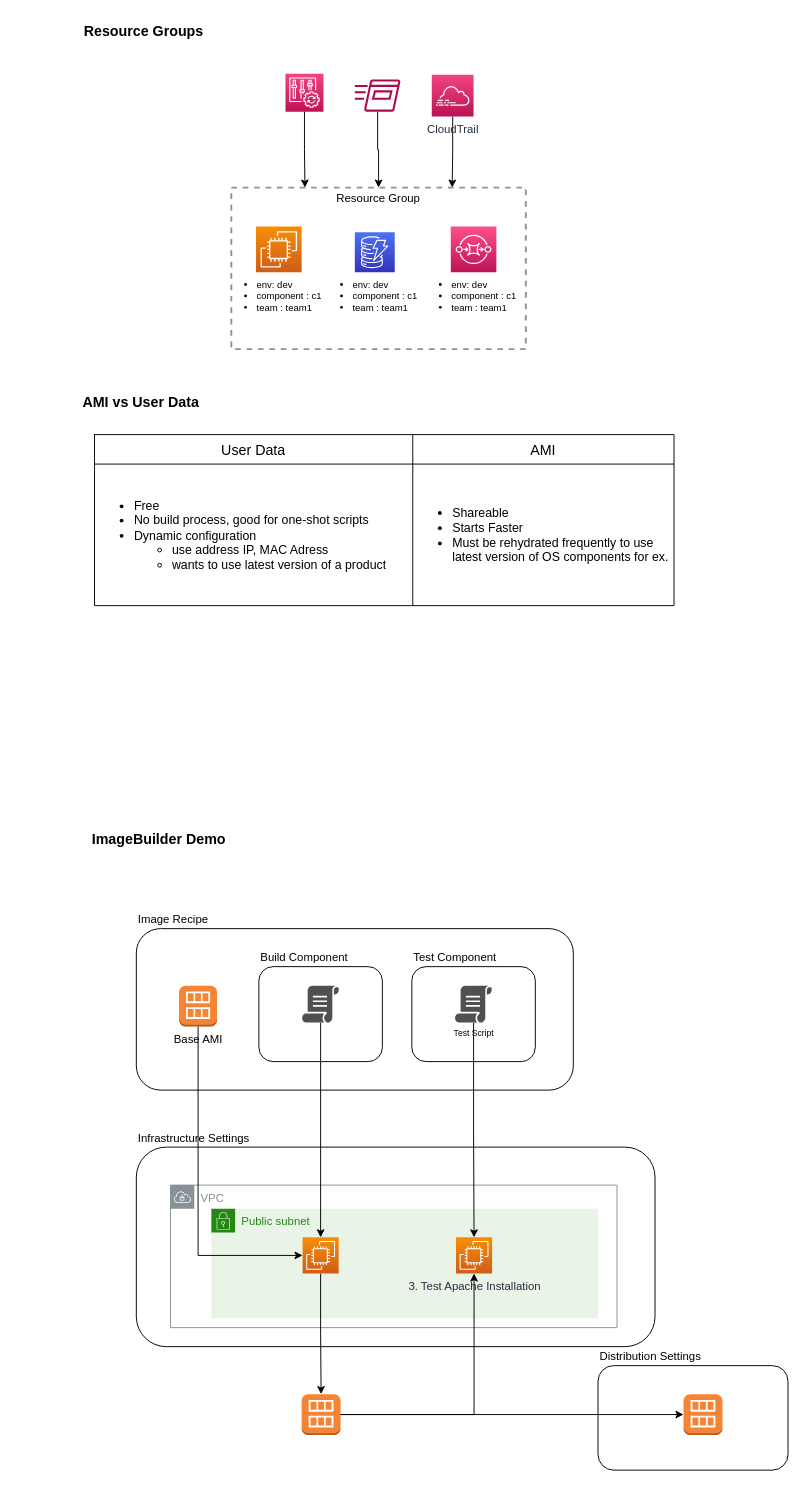
The diagram is 805 pixels wide and 1487 high, and some of its shapes have lost their labels. Each missing label, with the centre of its shape:
"1. Install Apache" belongs at [320,1254].
"2. Create new AMI" belongs at [321,1414].
"4. Copy AMI in another region" belongs at [702,1414].
"Build Script" belongs at [320,1003].
"Config" belongs at [304,92].
"Run Command" belongs at [377,95].
